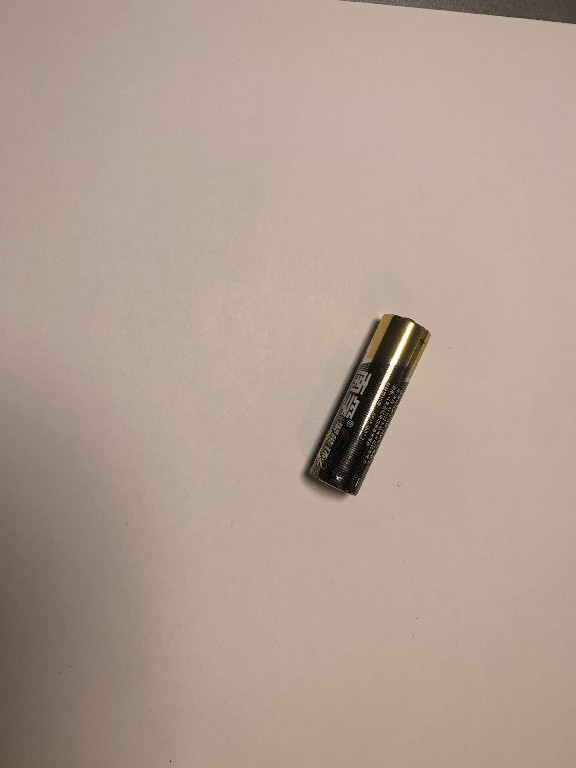charge: (303, 310, 433, 498)
